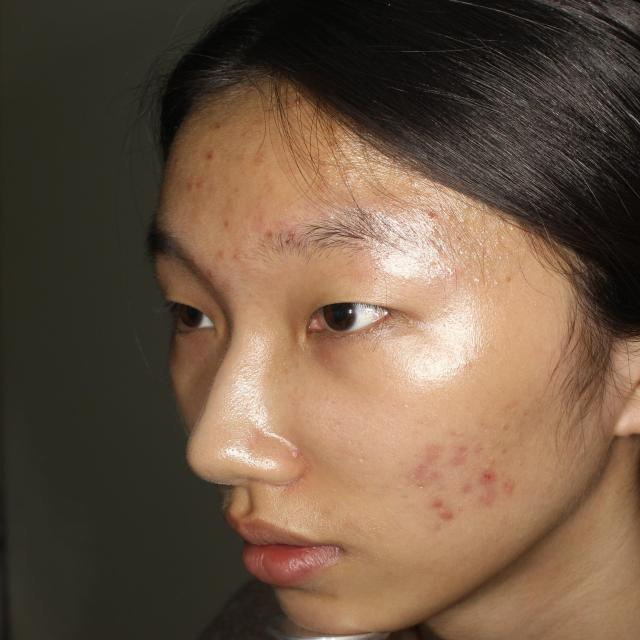acne: (256, 225, 291, 252), (445, 442, 478, 467), (432, 510, 465, 535), (409, 465, 442, 489), (418, 441, 446, 462), (179, 175, 205, 197), (497, 476, 519, 498), (224, 245, 246, 266), (475, 491, 498, 511), (456, 479, 476, 501), (477, 464, 496, 487), (421, 492, 443, 508), (203, 146, 217, 168)
